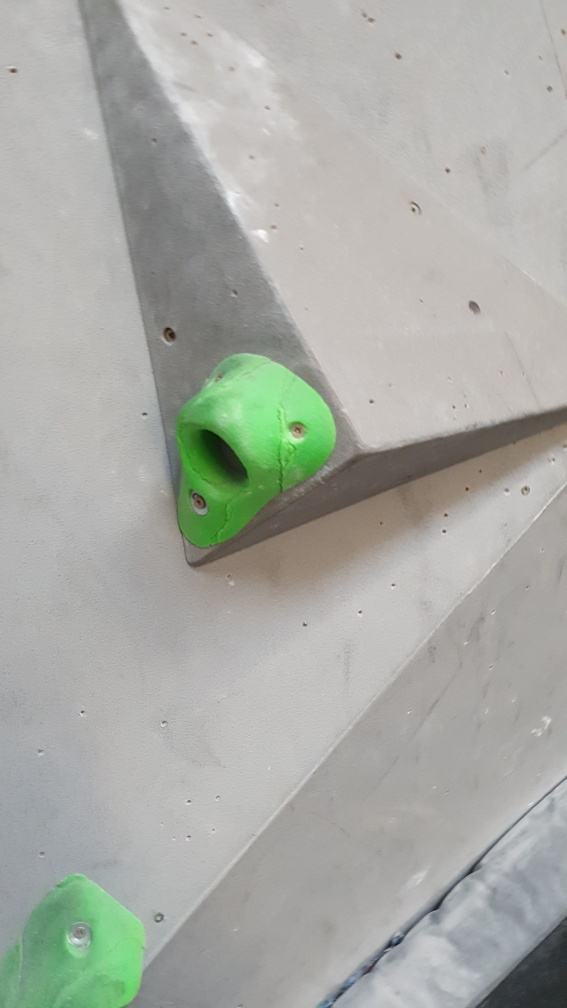Pocket: (169, 352, 340, 554)
